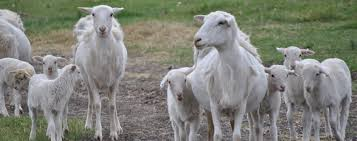sheep: (194, 6, 270, 141), (77, 1, 134, 141), (295, 45, 354, 141), (154, 55, 202, 141), (30, 62, 80, 141), (262, 56, 298, 138), (1, 57, 33, 122), (276, 45, 311, 103), (33, 46, 67, 103)
